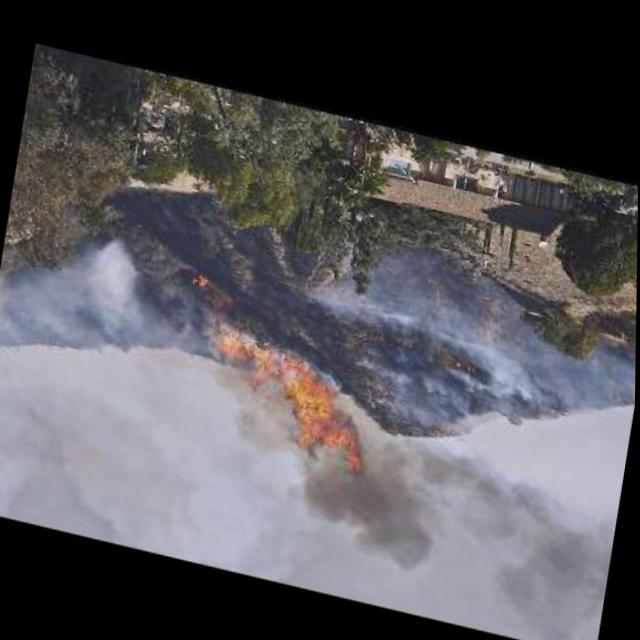Fire: (301, 419, 609, 630), (195, 329, 372, 468), (208, 291, 232, 309), (201, 275, 211, 289), (453, 350, 464, 362)
